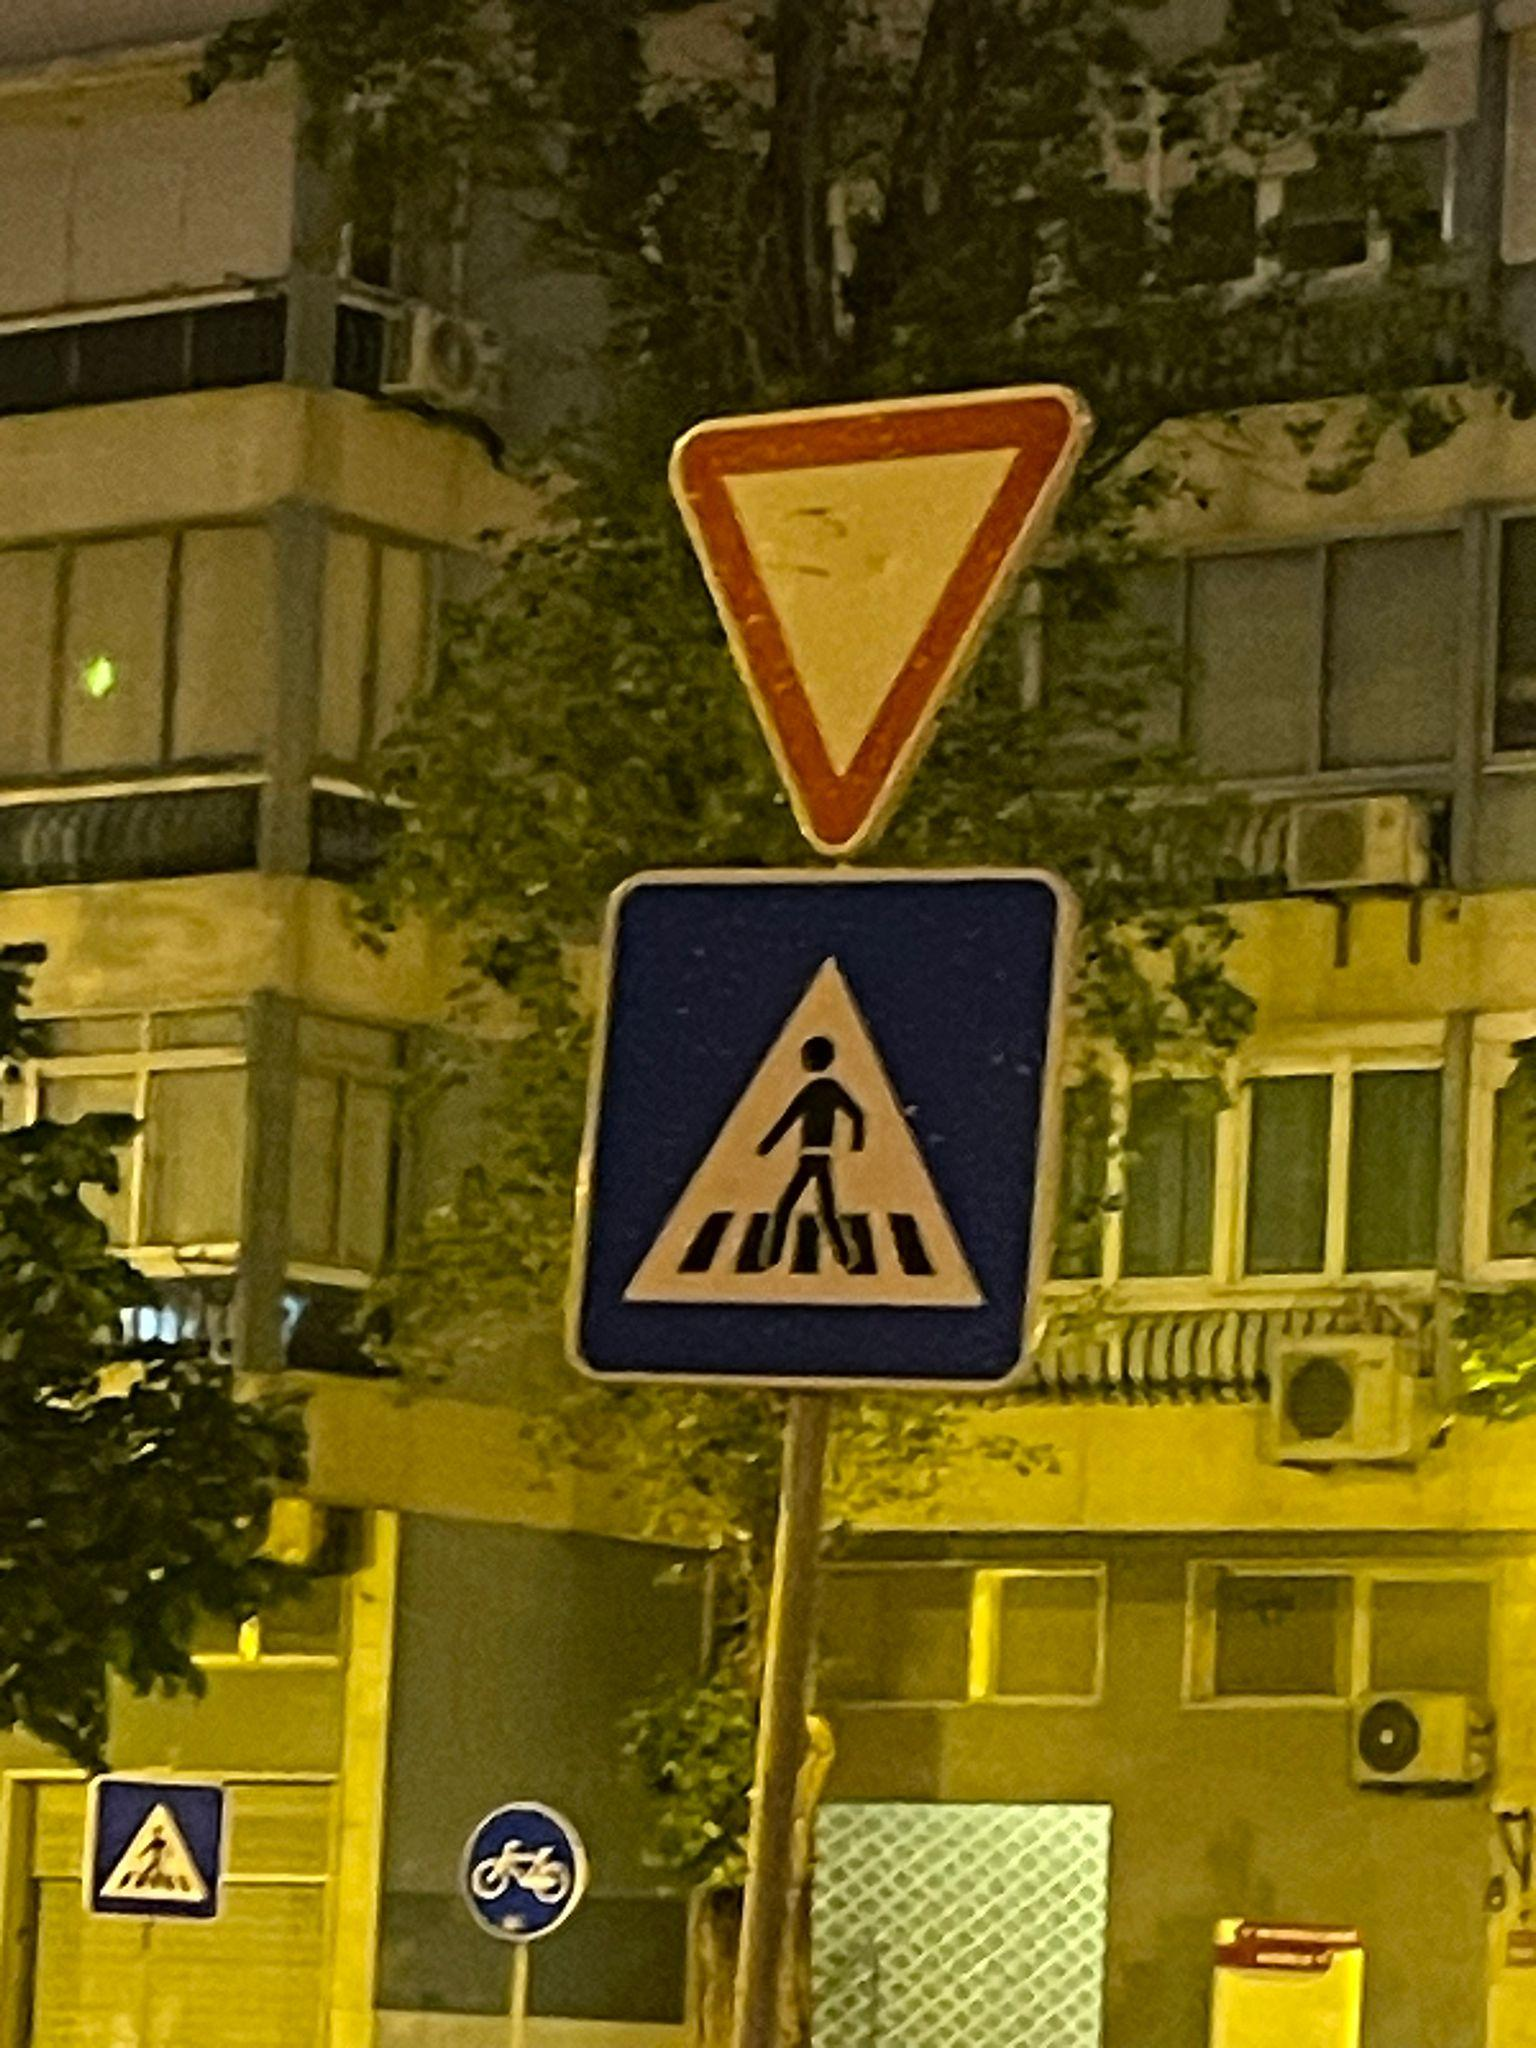sinais: (595, 866, 1084, 1372), (641, 389, 1092, 876)
